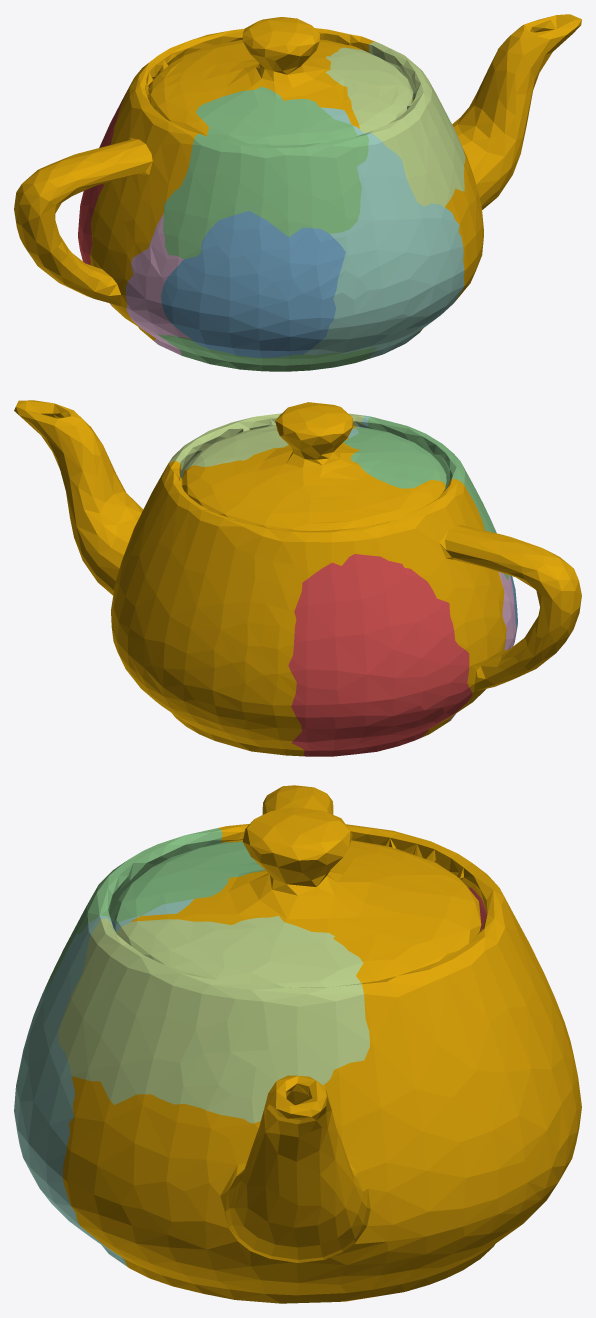
File: mode_16_8pcs.glb
3 views of the same model, one above another, from view 1: azimuth 30°, elevation 25°; view 2: azimuth 150°, elevation 25°; view 3: azimuth 270°, elevation 25° (orthographic). The views are drawn at different scales.
Parts seen in each view (by area): view 1: piece_0.obj, piece_3.obj, piece_2.obj, piece_4.obj, piece_5.obj, piece_6.obj, piece_1.obj; view 2: piece_0.obj, piece_1.obj, piece_3.obj, piece_5.obj, piece_6.obj; view 3: piece_0.obj, piece_5.obj, piece_4.obj, piece_3.obj.
Boxes of the visible parts, x1,y1,x2,y2 form: piece_0.obj: (14,14,581,341); piece_3.obj: (157,87,377,371); piece_2.obj: (161,211,345,357); piece_4.obj: (303,107,464,358); piece_5.obj: (325,41,465,207); piece_6.obj: (126,213,190,355); piece_1.obj: (78,90,127,307); piece_0.obj: (14,400,581,756); piece_1.obj: (288,554,472,756); piece_3.obj: (343,416,508,580); piece_5.obj: (169,413,364,487); piece_6.obj: (447,572,516,722); piece_0.obj: (63,785,581,1303); piece_5.obj: (58,915,369,1123); piece_4.obj: (14,899,193,1266); piece_3.obj: (44,828,264,989).
Bounding box in the file's own units: 1 × 0.496 × 0.6271.
